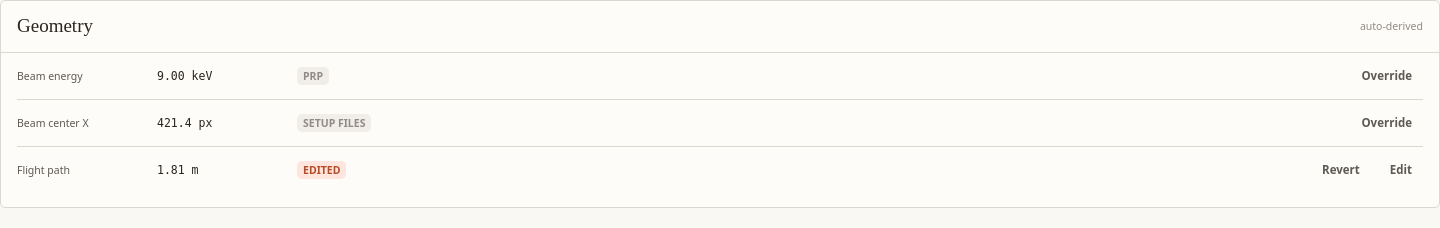
Test case: GeometryLedger › switching rows mid-edit commits the open row exactly once, then opens the next
Click the button with aria-label "override beam energy".
click(1387, 76)  # box [1350,63,1423,89]
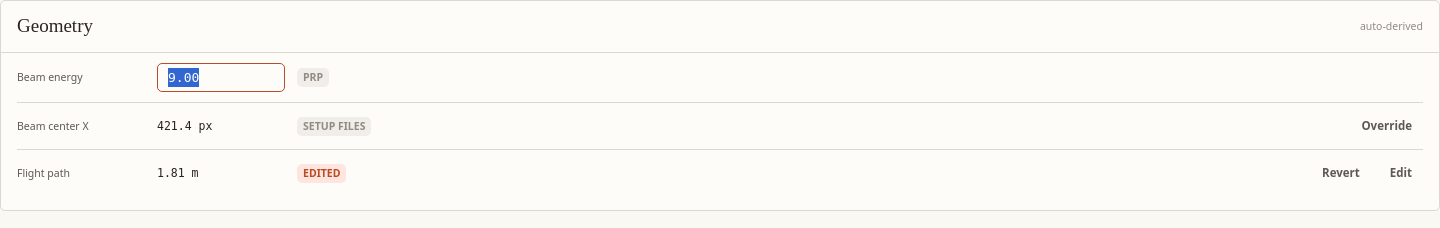
Replace the text in the field named "override beam energy" with "10.00" at (221, 78), box [168,68,274,87]
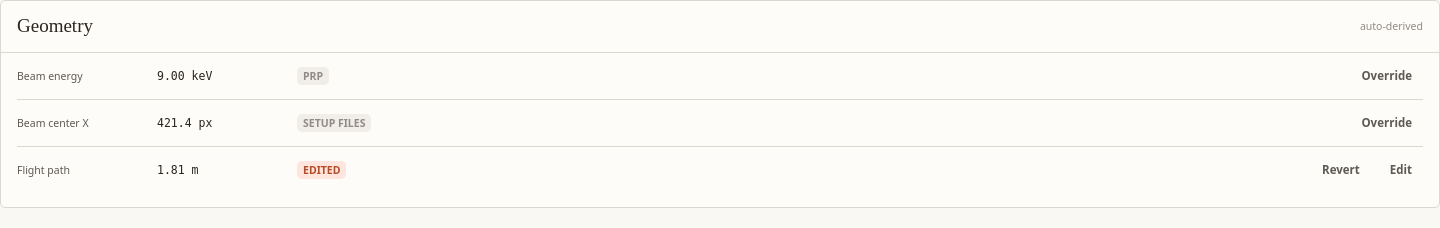
Click the button with aria-label "override beam center x".
click(1387, 123)  # box [1350,110,1423,136]
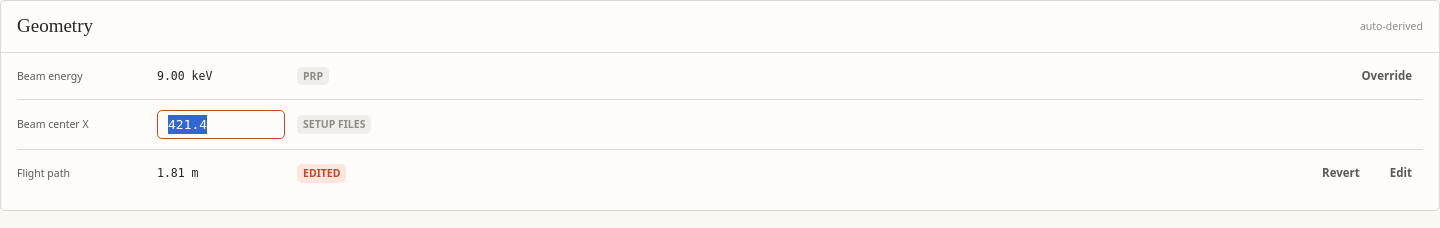
Now the field named "override beam center x" is shown, box [168,115,274,134]
